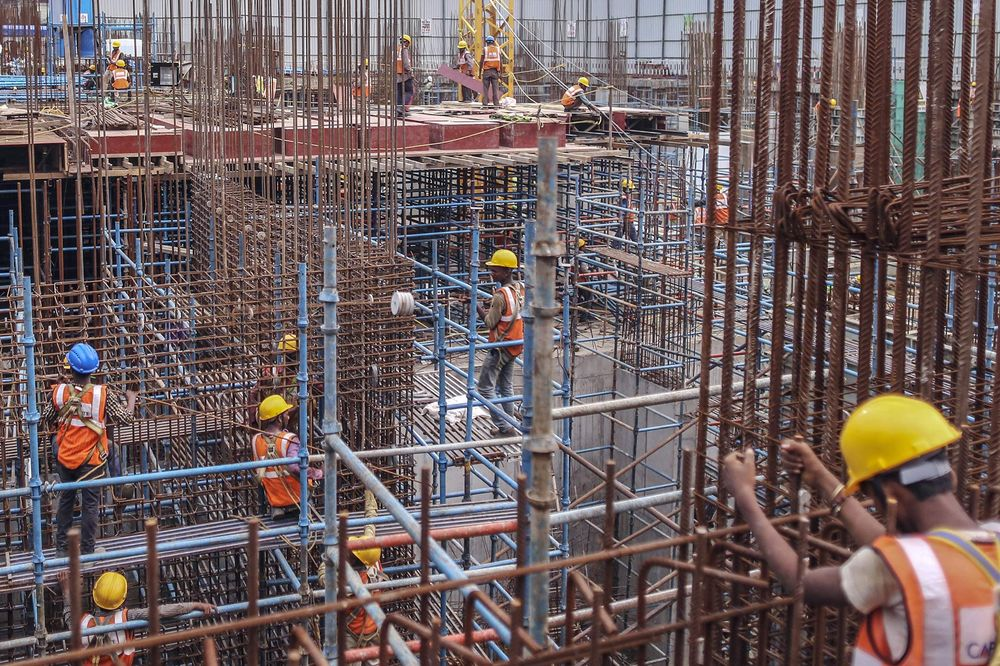SAFE: (809, 388, 999, 666), (46, 344, 113, 470), (241, 391, 299, 489), (479, 251, 523, 339), (478, 34, 504, 75)
